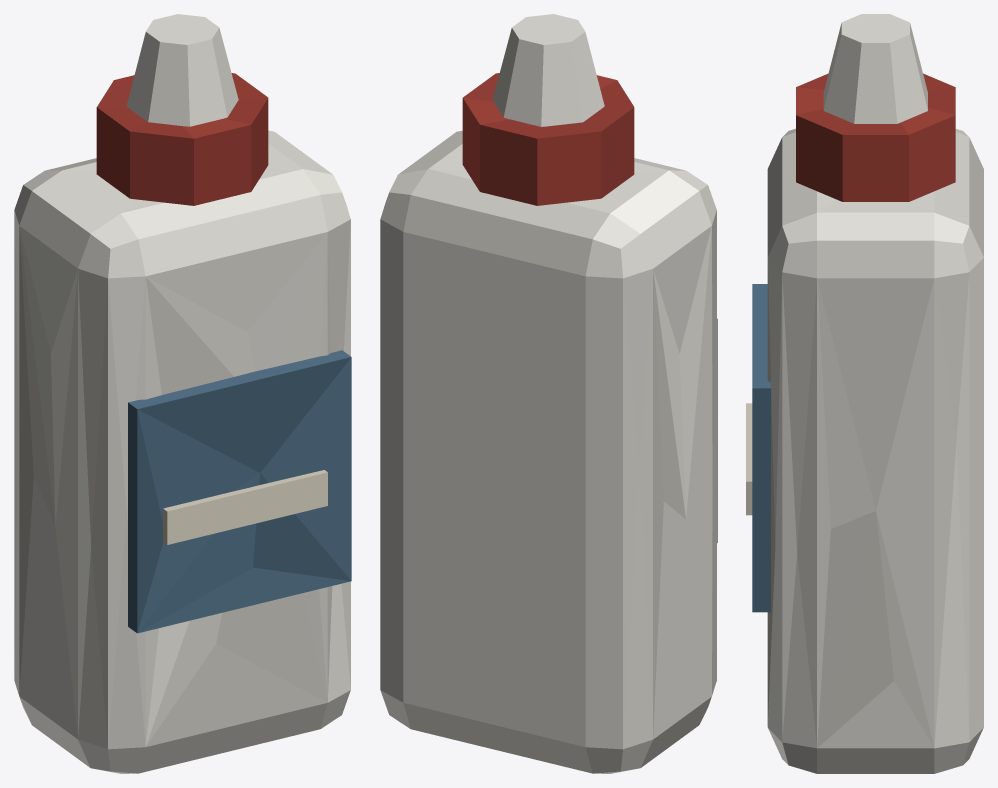
File: antiseptic_perekis_idle.glb
The picture shows the model from 3 angles, left to right: view 1: azimuth 30°, elevation 25°; view 2: azimuth 150°, elevation 25°; view 3: azimuth 270°, elevation 25°; orthographic projection.
Parts seen in each view (by area): view 1: antiseptic_perekis_idle; view 2: antiseptic_perekis_idle; view 3: antiseptic_perekis_idle.
Boxes of the visible parts, x1,y1,x2,y2 form: antiseptic_perekis_idle: (14,14,351,773); antiseptic_perekis_idle: (380,14,717,773); antiseptic_perekis_idle: (746,14,983,773).
Bounding box in the file's own units: 0.05 × 0.125 × 0.0385.
1 material, 1 textured.
